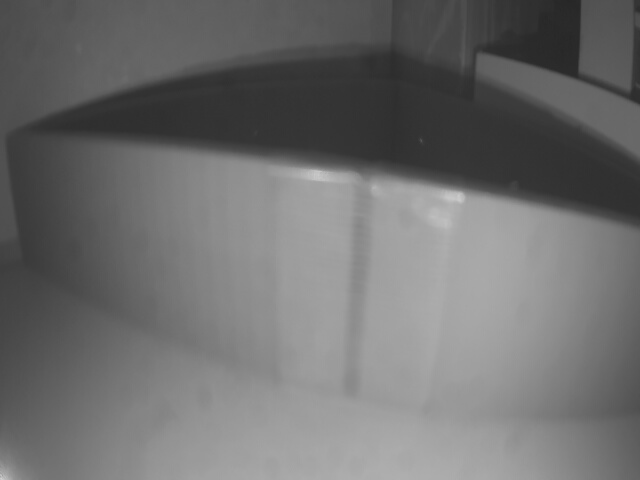Green: (5, 138, 640, 424)
